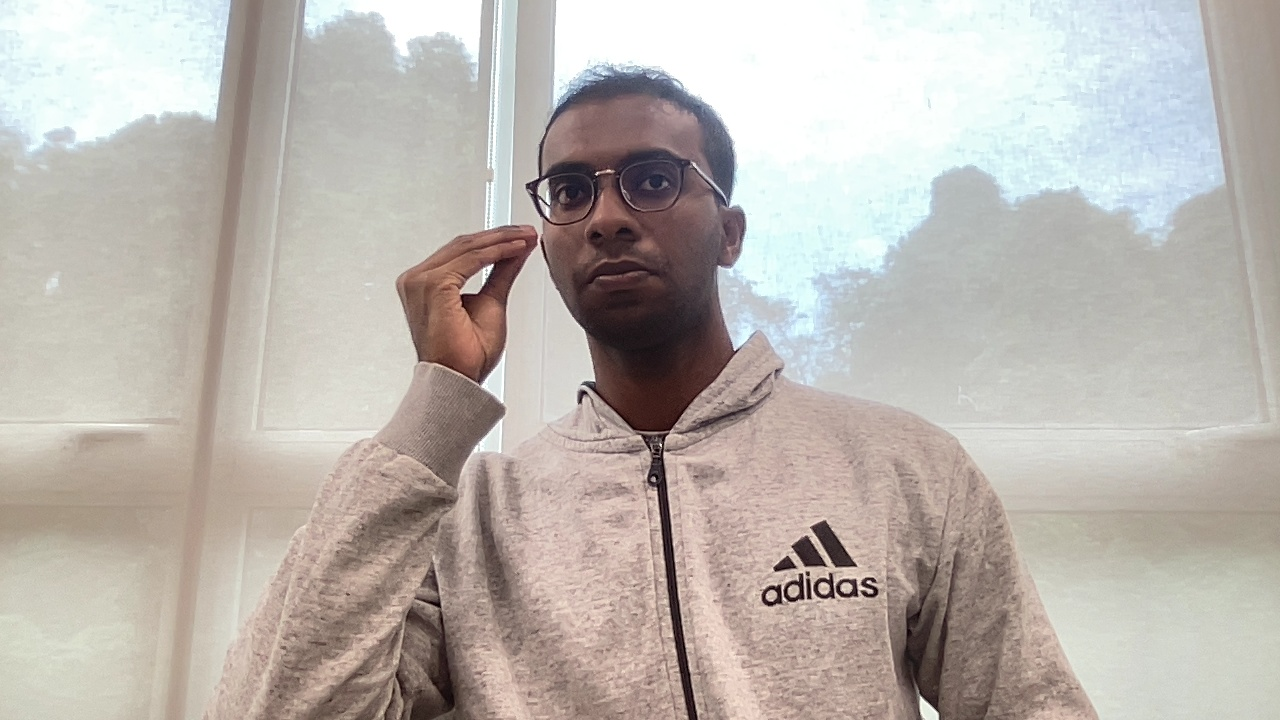eat: (391, 223, 546, 363)
